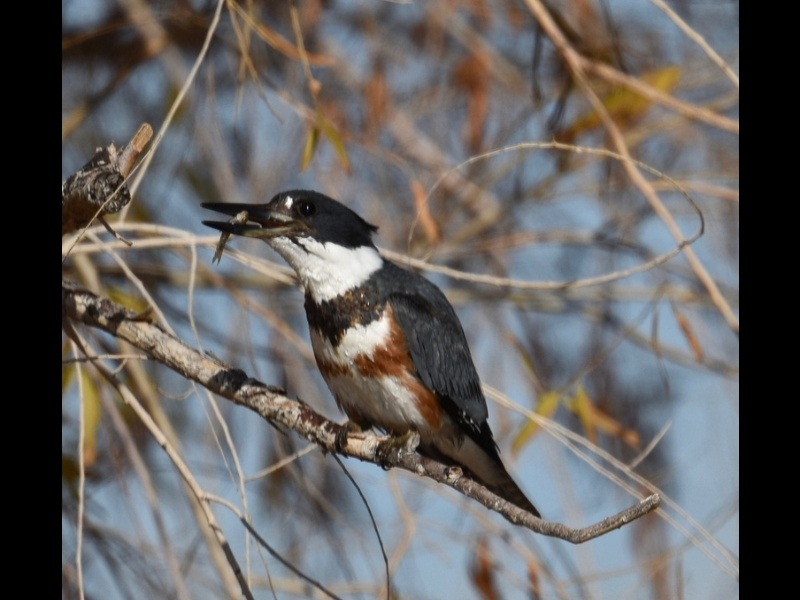kingfisher: (199, 184, 543, 523)
